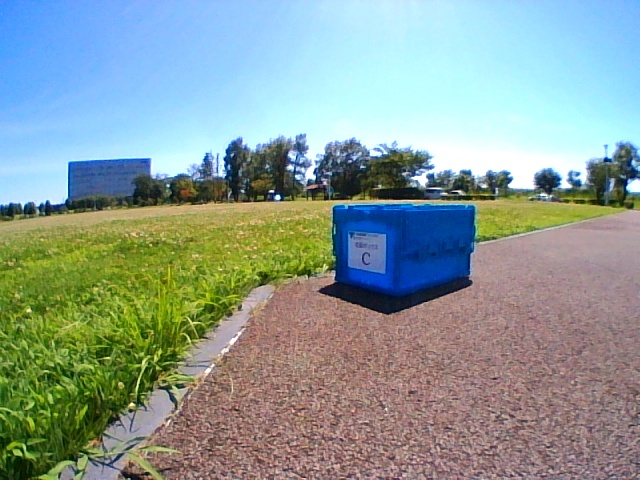blue_box: (333, 204, 476, 295)
tag_c: (351, 234, 384, 269)
